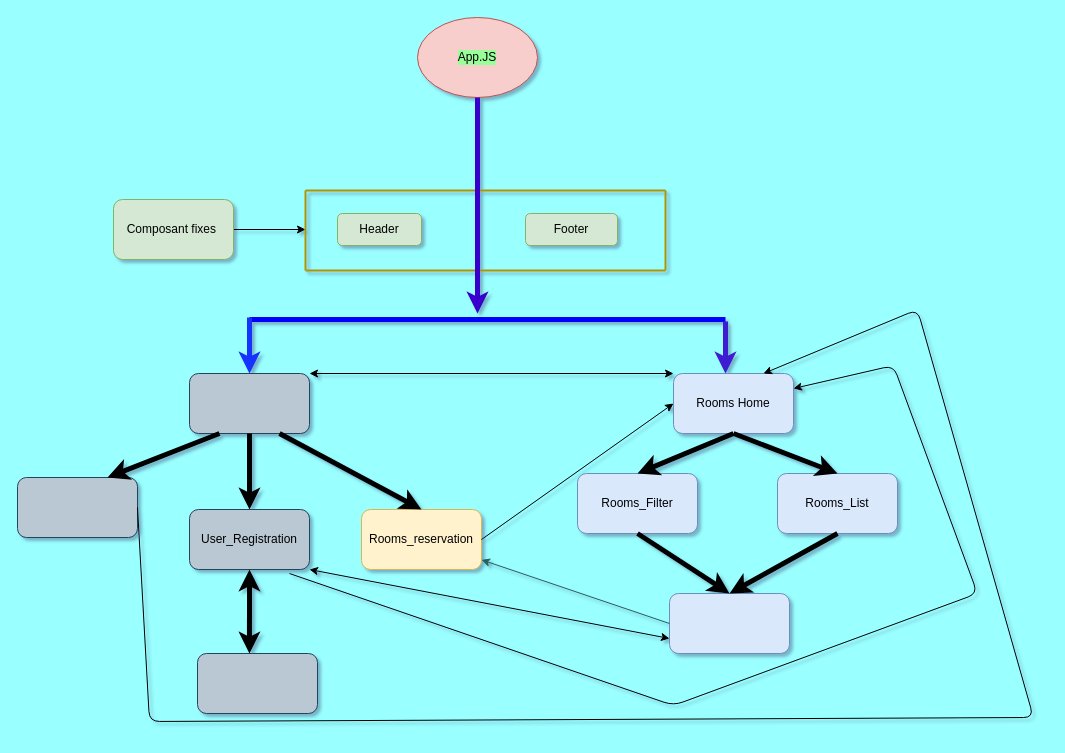
This 1065x753 diagram has some shape labels left out. Each missing label, with the box of its shape:
Login_Form: (16, 476, 138, 538)
Menu: (188, 372, 310, 434)
password_reset: (196, 652, 318, 714)
Rooms_details: (668, 592, 790, 654)
